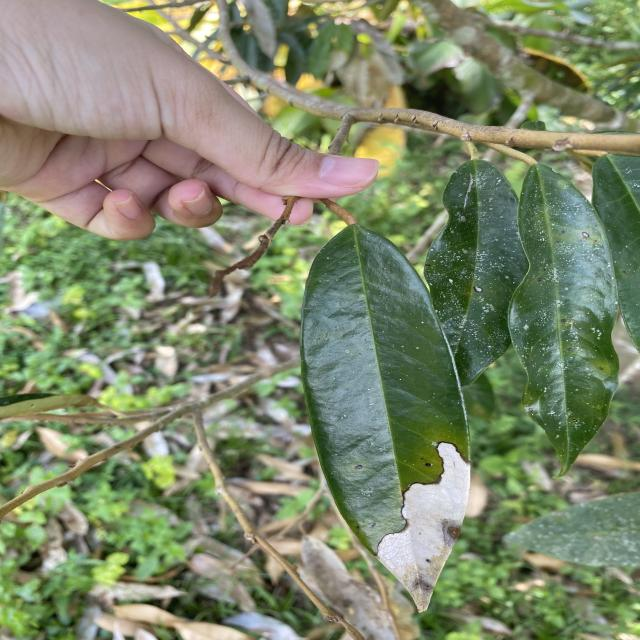Leaf Blight: (374, 428, 480, 616)
